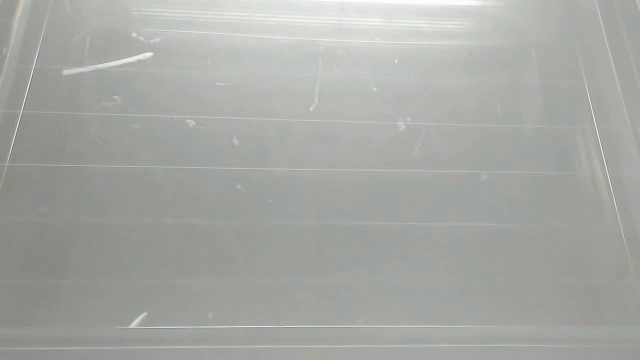alpha: (61, 50, 158, 80), (125, 309, 158, 335)
